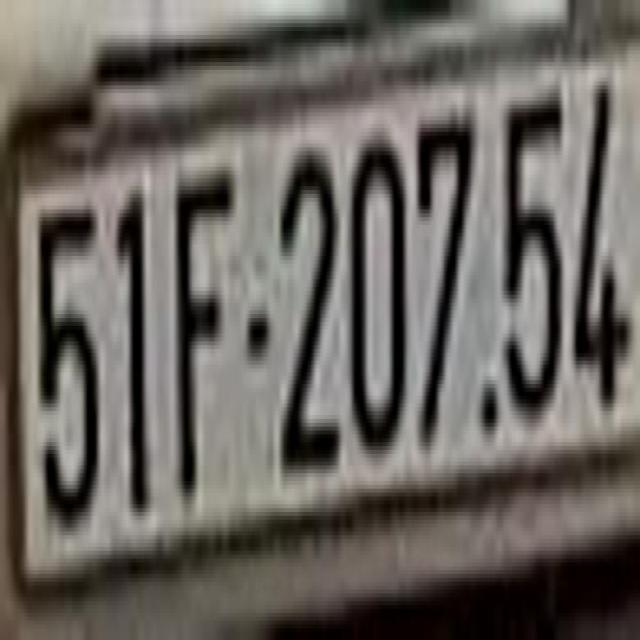0: (351, 113, 407, 446)
1: (114, 178, 149, 536)
2: (279, 147, 342, 477)
4: (573, 70, 632, 411)
5: (38, 202, 102, 524), (504, 74, 564, 411)
7: (417, 109, 472, 438)
F: (173, 163, 231, 512)
